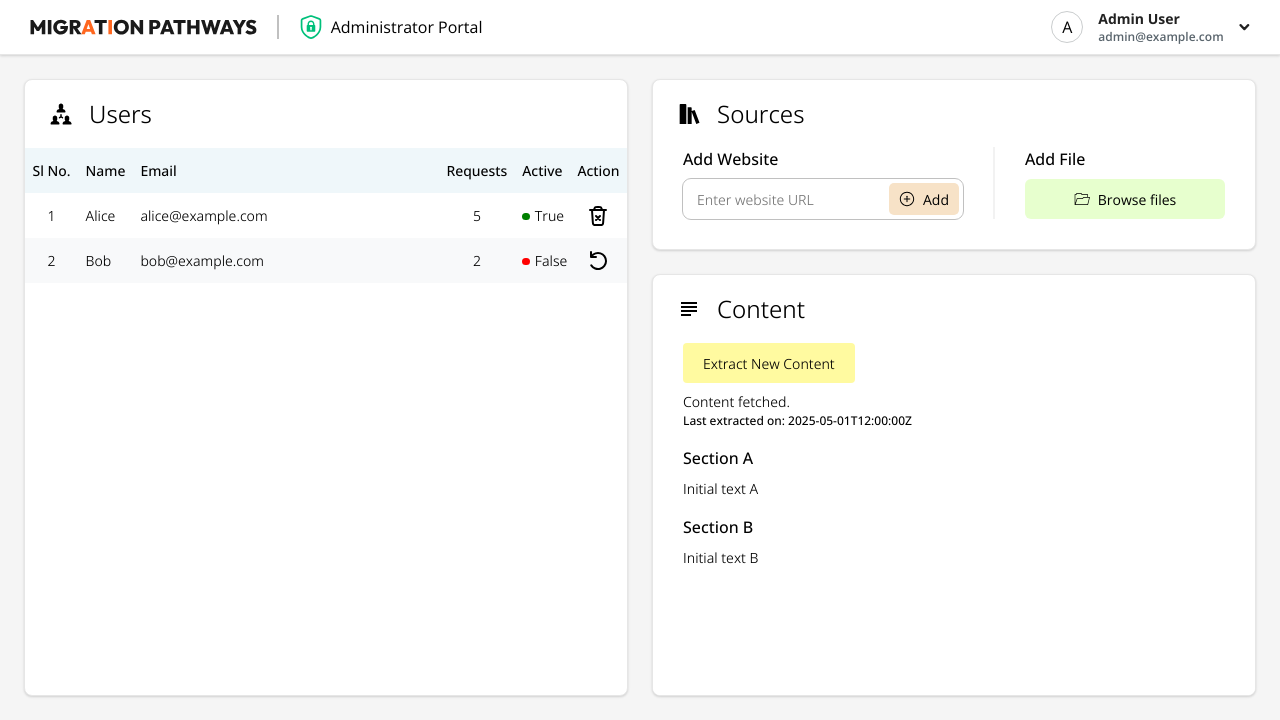
Test: <AdminDashboard /> › shows initial scraped content and updates on re‐scrape
The width and height of the screenshot is (1280, 720).
Expected: the text "Content fetched." is shown, [683,392,790,411]
Expected: the text "Last extracted on: 2025-05-01T12:00:00Z" is shown, [683,412,912,429]
What coordinates should you click on to do the following:
click the button "Extract New Content"
I would click on:
 (769, 363)
Its box is [683,343,855,383].
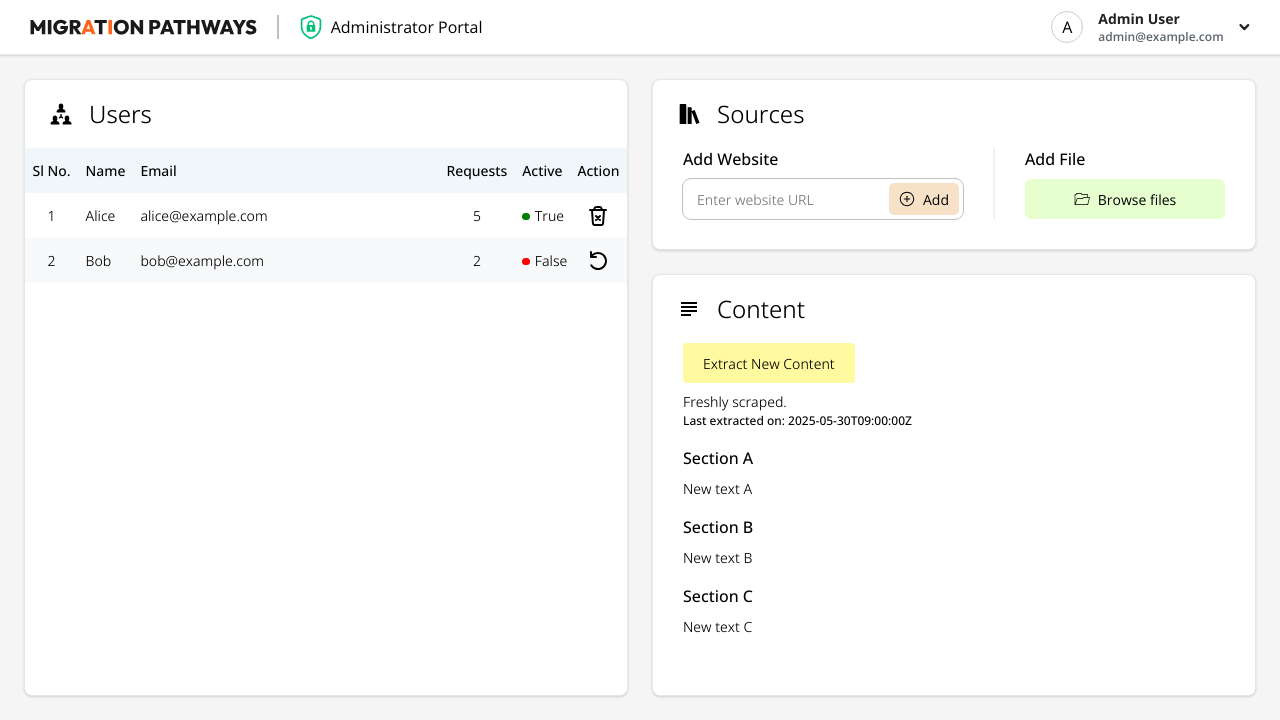
Now the text "Freshly scraped." is shown, box [683,392,787,411]
Now the text "Last extracted on: 2025-05-30T09:00:00Z" is shown, box [683,412,912,429]
Now the heading "Section C" is shown, box [683,585,753,607]
